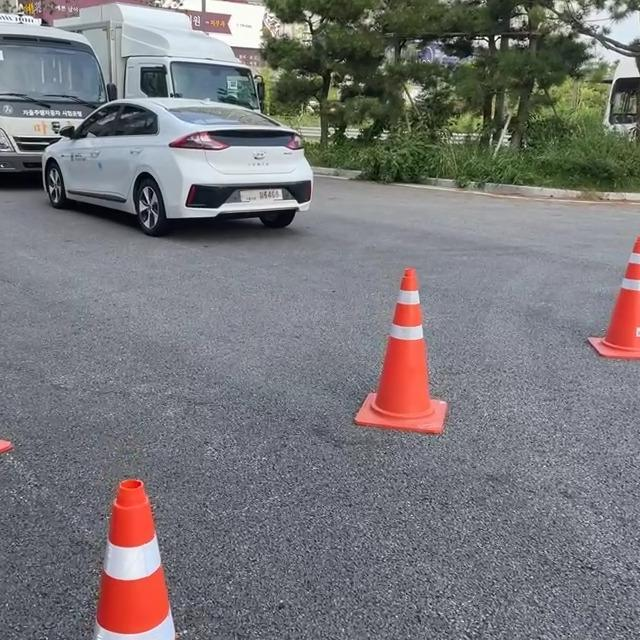fallen_object: (329, 233, 477, 523), (61, 424, 204, 640), (540, 202, 640, 432)
